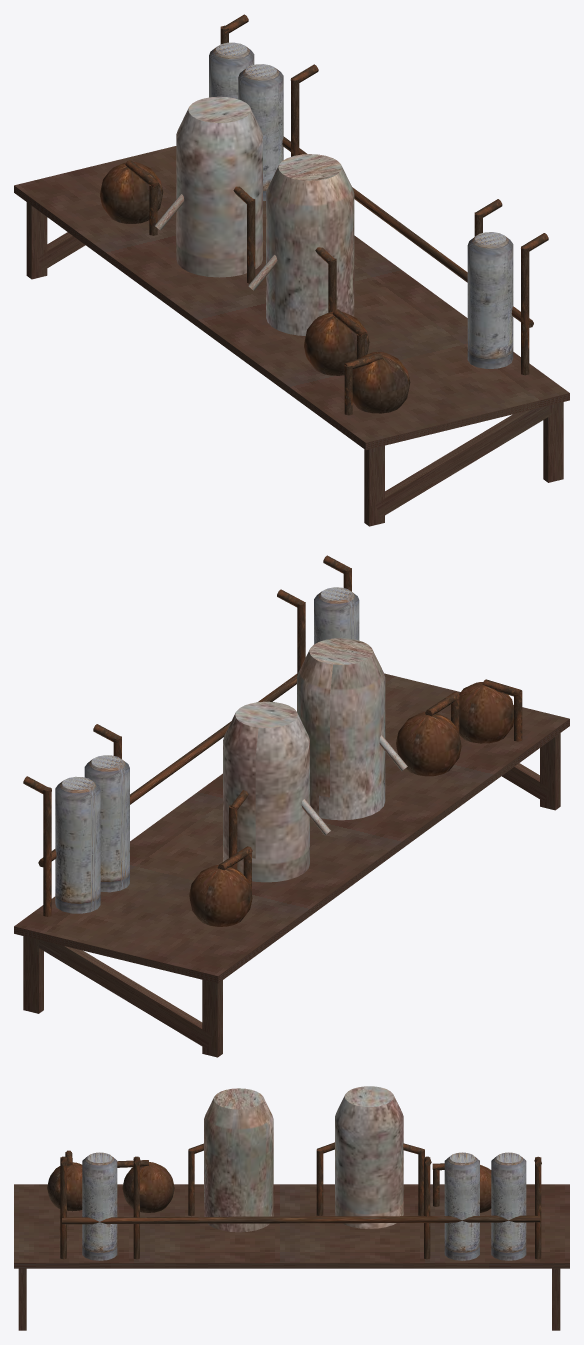
Rendered from stolik2barek.glb.
The picture shows the model from 3 angles, top to bottom: view 1: azimuth 30°, elevation 25°; view 2: azimuth 150°, elevation 25°; view 3: azimuth 270°, elevation 25°; orthographic projection. The views are drawn at different scales.
Parts seen in each view (by area): view 1: Box002, Cylinder001, Cylinder002, Box003, Cylinder006, Cylinder005, Sphere002, Sphere001, Sphere003, Cylinder004, Cylinder029, Cylinder010 (+2 smaller); view 2: Box002, Cylinder002, Cylinder001, Cylinder004, Cylinder005, Sphere001, Sphere003, Sphere002, Cylinder006, Box003, Cylinder029, Cylinder009; view 3: Box002, Cylinder002, Cylinder001, Cylinder005, Cylinder004, Cylinder006, Cylinder029, Sphere001, Sphere002, Cylinder010, Cylinder009, Cylinder012 (+6 smaller).
Boxes of the visible parts, box(x1,y1,x2,y2) form: Box002: box(14, 146, 569, 449); Cylinder001: box(176, 96, 262, 277); Cylinder002: box(266, 154, 354, 335); Box003: box(364, 402, 563, 526); Cylinder006: box(467, 232, 513, 368); Cylinder005: box(238, 64, 283, 200); Sphere002: box(352, 352, 410, 413); Sphere001: box(304, 311, 369, 375); Sphere003: box(100, 162, 163, 223); Cylinder004: box(209, 42, 254, 99); Cylinder029: box(282, 136, 533, 327); Cylinder010: box(521, 246, 529, 375); Box002: box(14, 673, 569, 1057); Cylinder002: box(297, 638, 385, 820); Cylinder001: box(223, 701, 309, 882); Cylinder004: box(55, 776, 100, 913); Cylinder005: box(84, 755, 129, 892); Sphere001: box(396, 712, 461, 776); Sphere003: box(189, 865, 252, 926); Sphere002: box(459, 682, 513, 743); Cylinder006: box(314, 587, 359, 644); Box003: box(502, 733, 560, 810); Cylinder029: box(38, 674, 297, 867); Cylinder009: box(43, 787, 51, 916); Box002: box(14, 1184, 569, 1330); Cylinder002: box(204, 1088, 273, 1232); Cylinder001: box(335, 1086, 403, 1228); Cylinder005: box(444, 1152, 479, 1260); Cylinder004: box(491, 1152, 526, 1260); Cylinder006: box(82, 1152, 117, 1260); Cylinder029: box(62, 1215, 540, 1224); Sphere001: box(122, 1162, 174, 1212); Sphere002: box(47, 1162, 82, 1211); Cylinder010: box(60, 1157, 66, 1259); Cylinder009: box(535, 1156, 541, 1259); Cylinder012: box(133, 1157, 139, 1259).
Size of the model in its own units: 0.554 by 0.5885 by 1.58.
Materials: 4 (4 with a texture image).
